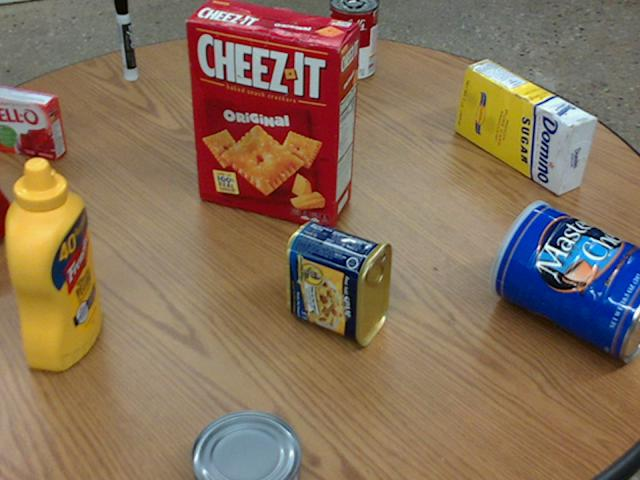cracker_box: (187, 0, 360, 225)
gelatin_box: (0, 85, 69, 159)
large_marker: (115, 0, 138, 79)
master_chef_can: (489, 200, 639, 361)
mug: (0, 184, 15, 243)
mustard_bottle: (7, 157, 102, 370)
potted_meat_can: (285, 221, 392, 346)
sugar_box: (456, 59, 598, 194)
tomato_soup_can: (329, 0, 380, 79)
tuna_fish_can: (189, 410, 300, 479)
